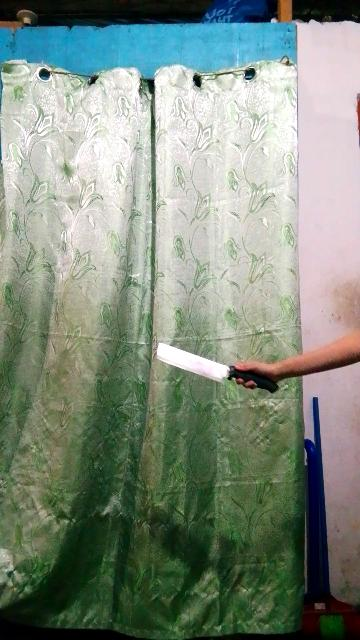long knife: (151, 334, 283, 396)
